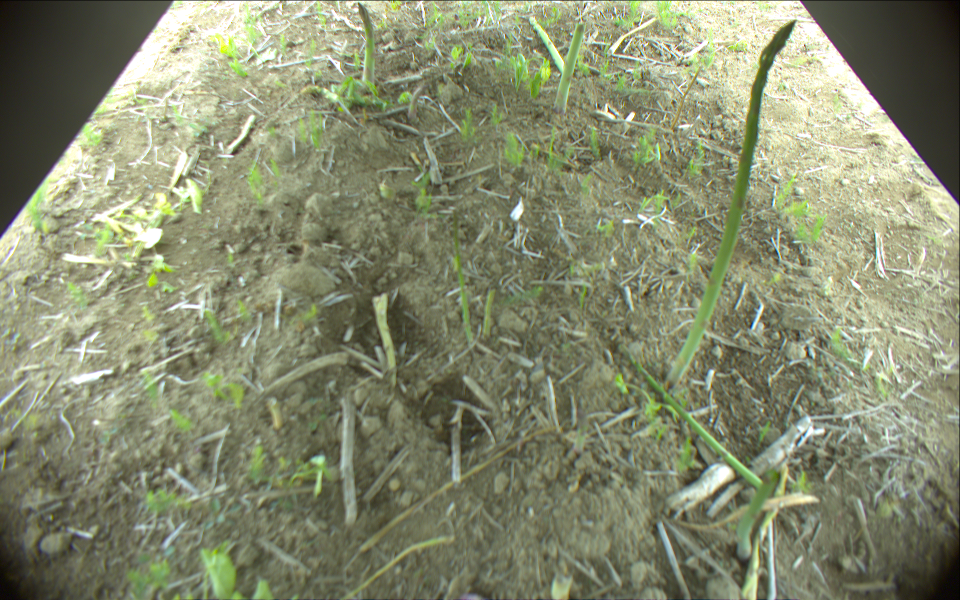aspa: (666, 21, 796, 390), (625, 348, 764, 489), (732, 470, 778, 560), (451, 211, 473, 342), (554, 23, 584, 111), (528, 17, 567, 75), (375, 294, 398, 379), (358, 3, 375, 88), (480, 288, 499, 342)
